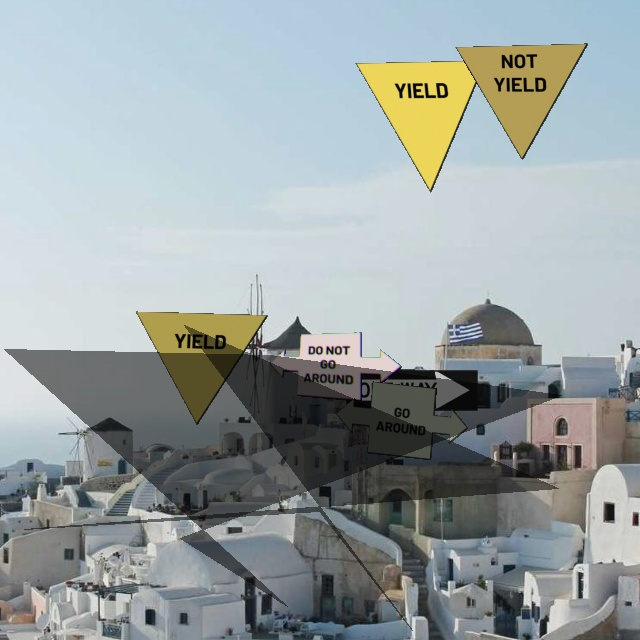DO_NOT_GO_AROUND: (269, 332, 402, 401)
GO_AROUND: (335, 381, 468, 460)
NOT_YIELD: (455, 43, 588, 160)
ONE_WAY_ right: (345, 369, 478, 411)
YIELD: (355, 60, 486, 193), (135, 311, 268, 425)
